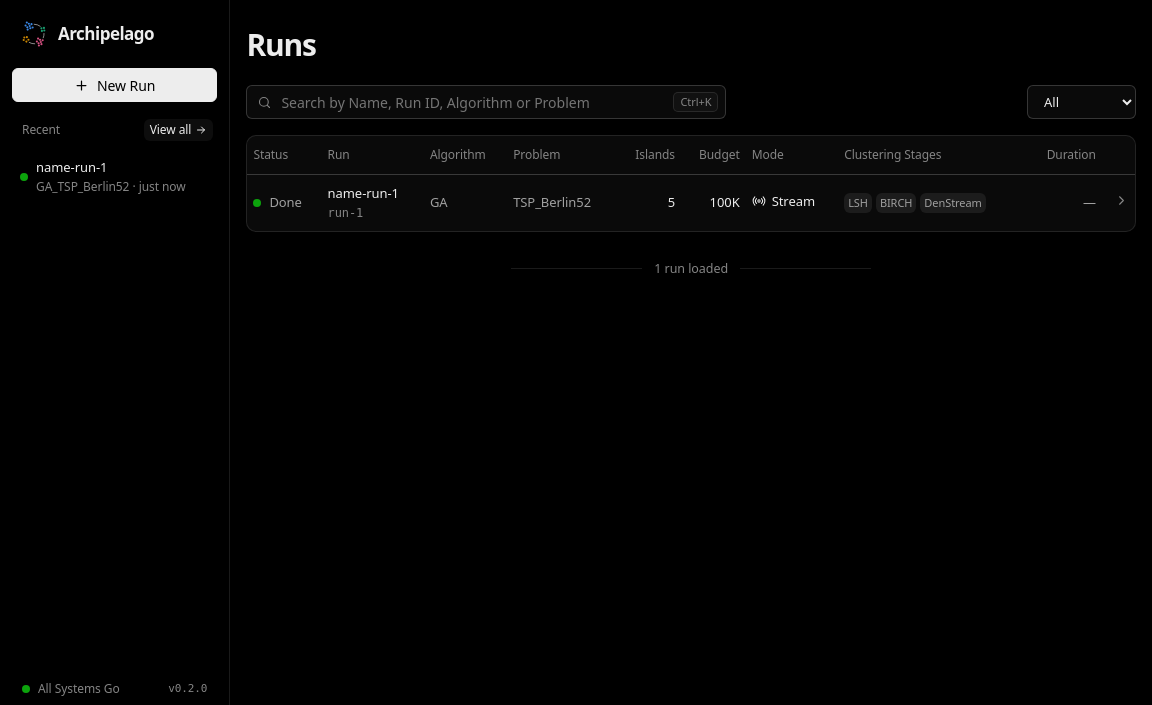
it: RunWorkspace loading › opens a finished run from the runs list without asking for it again, and loads its result once for every tab
Click the link "name-run-1". click: {"x": 363, "y": 193}
box: 328,184 -> 399,202
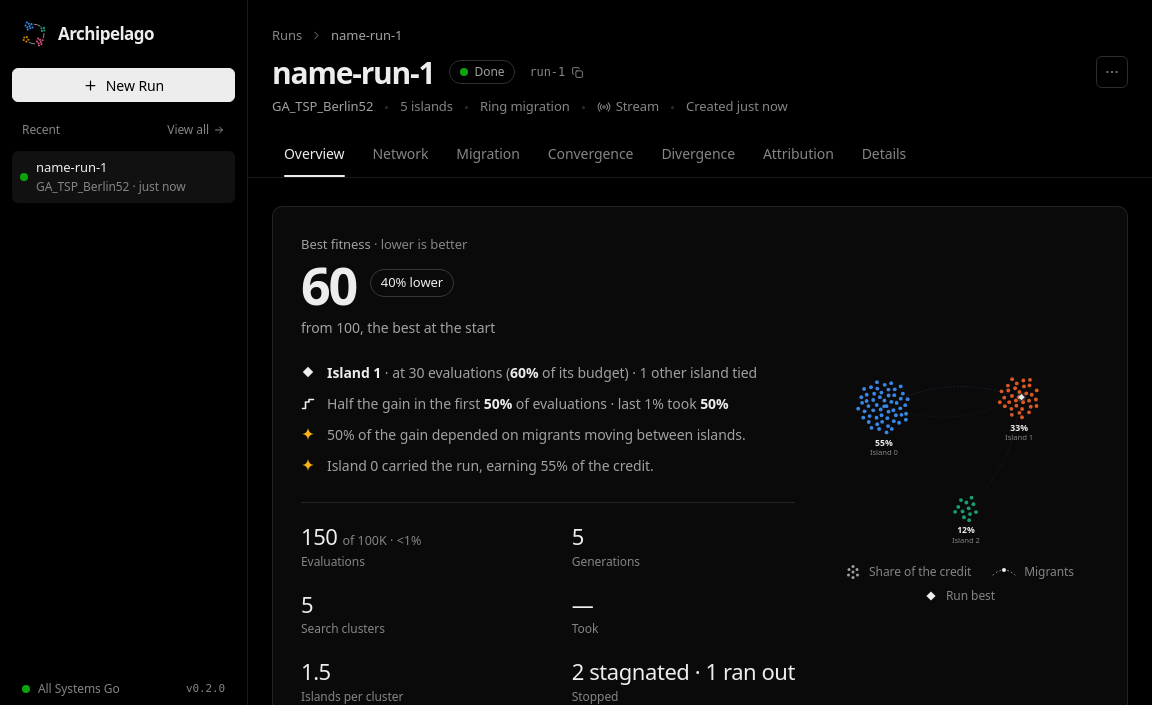
Expected: the heading "name-run-1" is shown, 272,56 -> 434,88
Click the link "Details". click: {"x": 884, "y": 153}
box: 862,144 -> 906,163
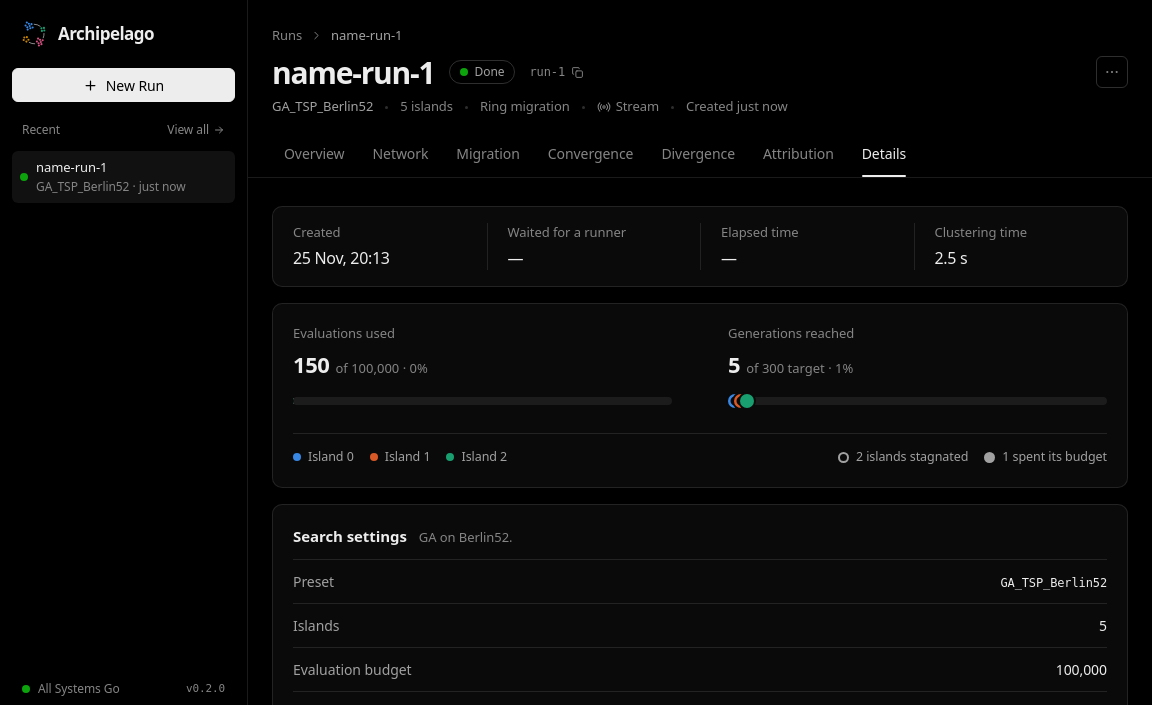
Click the link "Convergence". click: {"x": 591, "y": 153}
box: 548,144 -> 633,163
(page scrolled)
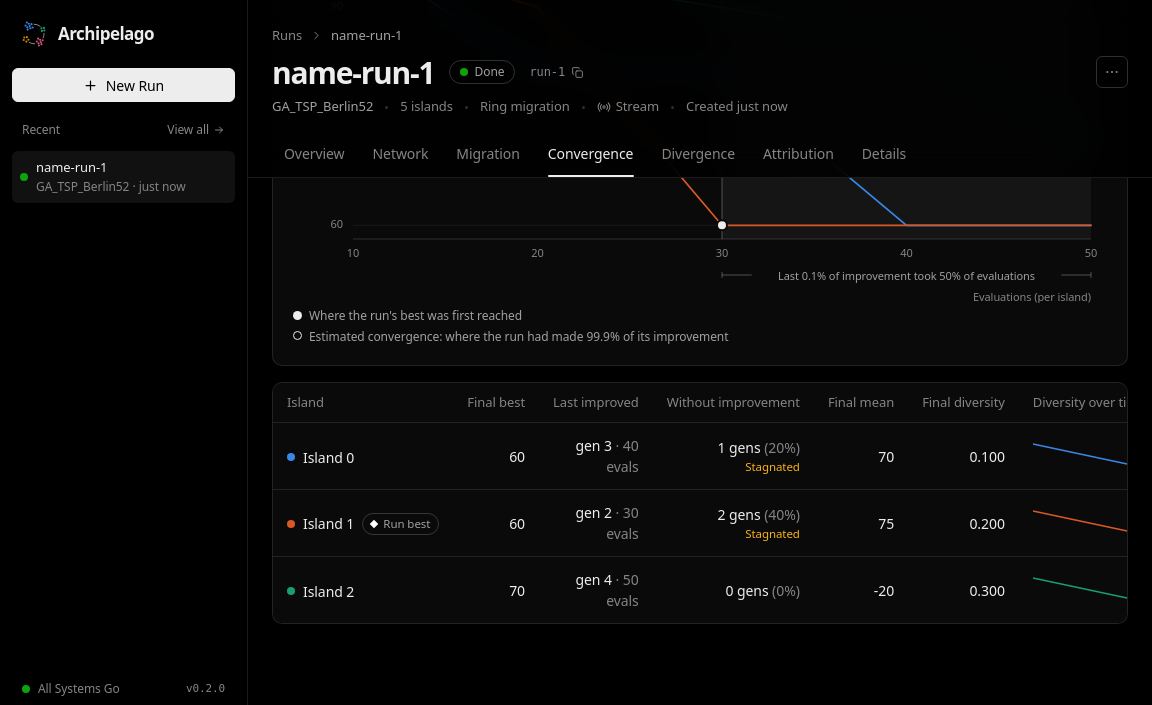
Expected: the text "Run best" is shown, 362,513 -> 439,535
